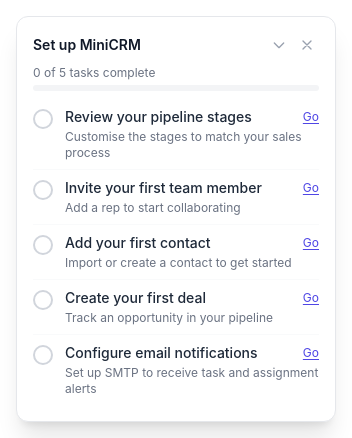
SetupChecklistWidget › collapses to pill when collapse button is clicked
Click the button with test id "setup-checklist-collapse-button" at point(279, 45), box [267, 33, 291, 57]
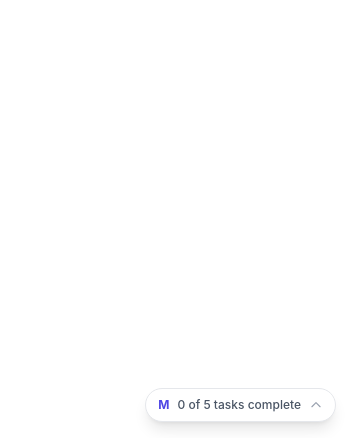
expect the element with test id "setup-checklist-pill" is shown: met, box [145, 388, 336, 422]
